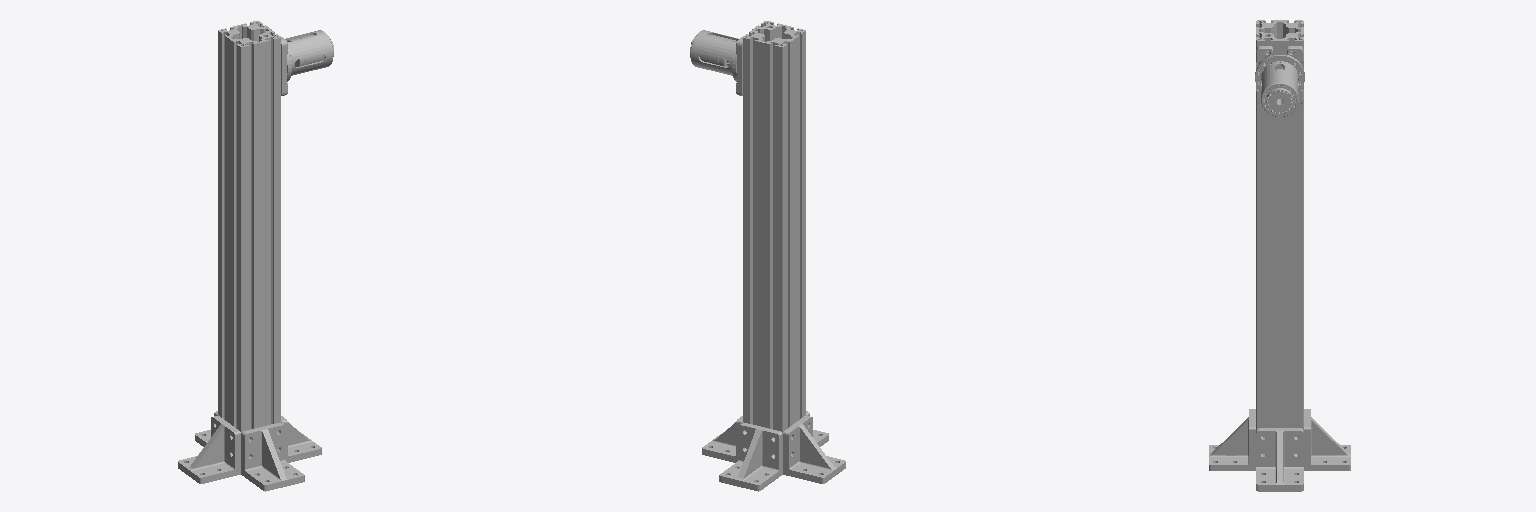
robot.urdf — arm5:
<?xml version="1.0" encoding="utf-8"?>
<!-- This URDF was automatically created by SolidWorks to URDF Exporter! Originally created by [author] ([email redacted]) 
     Commit Version: 1.6.0-4-g7f85cfe  Build Version: 1.6.7995.38578
     For more information, please see http://wiki.ros.org/sw_urdf_exporter -->
<robot
  name="arm5">
  <link
    name="base_link">
    <inertial>
      <origin
        xyz="0.062898 -0.00043392 -0.47448"
        rpy="0 0 0" />
      <mass
        value="6.5373" />
      <inertia
        ixx="0.39748"
        ixy="-7.2205E-05"
        ixz="6.8903E-07"
        iyy="0.39743"
        iyz="-5.6522E-08"
        izz="0.012143" />
    </inertial>
    <visual>
      <origin
        xyz="0 0 0"
        rpy="0 0 0" />
      <geometry>
        <mesh
          filename="package://ti5_description/meshes/arm5/base_link.STL" />
      </geometry>
      <material
        name="">
        <color
          rgba="0.75294 0.75294 0.75294 1" />
      </material>
    </visual>
    <collision>
      <origin
        xyz="0 0 0"
        rpy="0 0 0" />
      <geometry>
        <mesh
          filename="package://ti5_description/meshes/arm5/base_link.STL" />
      </geometry>
    </collision>
  </link>
  <link
    name="Empty_Link1">
    <inertial>
      <origin
        xyz="-0.0012122 0.030854 0.019049"
        rpy="0 0 0" />
      <mass
        value="0.060372" />
      <inertia
        ixx="8.5818E-05"
        ixy="7.8725E-07"
        ixz="1.004E-06"
        iyy="6.5812E-05"
        iyz="-2.5554E-05"
        izz="5.3416E-05" />
    </inertial>
    <visual>
      <origin
        xyz="0 0 0"
        rpy="0 0 0" />
      <geometry>
        <mesh
          filename="package://ti5_description/meshes/arm5/Empty_Link1.STL" />
      </geometry>
      <material
        name="">
        <color
          rgba="0.75294 0.75294 0.75294 1" />
      </material>
    </visual>
    <collision>
      <origin
        xyz="0 0 0"
        rpy="0 0 0" />
      <geometry>
        <mesh
          filename="package://ti5_description/meshes/arm5/Empty_Link1.STL" />
      </geometry>
    </collision>
  </link>
  <joint
    name="j1"
    type="revolute">
    <origin
      xyz="-0.1255 0 0"
      rpy="-1.5708 1.5315 1.5708" />
    <parent
      link="base_link" />
    <child
      link="Empty_Link1" />
    <axis
      xyz="0 0 1" />
    <limit
      lower="-2.618"
      upper="2.618"
      effort="0"
      velocity="0" />
  </joint>
  <link
    name="Empty_Link2">
    <inertial>
      <origin
        xyz="-0.0029293 -3.0228E-05 0.0011432"
        rpy="0 0 0" />
      <mass
        value="0.36978" />
      <inertia
        ixx="0.00035458"
        ixy="7.1526E-08"
        ixz="-1.5567E-05"
        iyy="0.00034741"
        iyz="-2.7045E-07"
        izz="0.00026498" />
    </inertial>
    <visual>
      <origin
        xyz="0 0 0"
        rpy="0 0 0" />
      <geometry>
        <mesh
          filename="package://ti5_description/meshes/arm5/Empty_Link2.STL" />
      </geometry>
      <material
        name="">
        <color
          rgba="0.75294 0.75294 0.75294 1" />
      </material>
    </visual>
    <collision>
      <origin
        xyz="0 0 0"
        rpy="0 0 0" />
      <geometry>
        <mesh
          filename="package://ti5_description/meshes/arm5/Empty_Link2.STL" />
      </geometry>
    </collision>
  </link>
  <joint
    name="j2"
    type="revolute">
    <origin
      xyz="0 0 0.055"
      rpy="1.6101 1.5708 0" />
    <parent
      link="Empty_Link1" />
    <child
      link="Empty_Link2" />
    <axis
      xyz="0 0 1" />
    <limit
      lower="-1.5708"
      upper="1.5708"
      effort="0"
      velocity="0" />
  </joint>
  <link
    name="Empty_Link3">
    <inertial>
      <origin
        xyz="-0.00043966 -0.00095526 0.10658"
        rpy="0 0 0" />
      <mass
        value="0.16255" />
      <inertia
        ixx="0.00016703"
        ixy="5.3544E-07"
        ixz="1.9755E-06"
        iyy="0.00017357"
        iyz="3.5135E-06"
        izz="0.00011735" />
    </inertial>
    <visual>
      <origin
        xyz="0 0 0"
        rpy="0 0 0" />
      <geometry>
        <mesh
          filename="package://ti5_description/meshes/arm5/Empty_Link3.STL" />
      </geometry>
      <material
        name="">
        <color
          rgba="0.75294 0.75294 0.75294 1" />
      </material>
    </visual>
    <collision>
      <origin
        xyz="0 0 0"
        rpy="0 0 0" />
      <geometry>
        <mesh
          filename="package://ti5_description/meshes/arm5/Empty_Link3.STL" />
      </geometry>
    </collision>
  </link>
  <joint
    name="j3"
    type="revolute">
    <origin
      xyz="-0.0551 0 0"
      rpy="-1.5708 -0.03927 1.5708" />
    <parent
      link="Empty_Link2" />
    <child
      link="Empty_Link3" />
    <axis
      xyz="0 0 1" />
    <limit
      lower="-2.618"
      upper="2.618"
      effort="0"
      velocity="0" />
  </joint>
  <link
    name="Empty_Link4">
    <inertial>
      <origin
        xyz="-0.067652 -1.0837E-08 -0.0093648"
        rpy="0 0 0" />
      <mass
        value="0.10047" />
      <inertia
        ixx="6.2345E-05"
        ixy="-9.057E-12"
        ixz="1.0284E-05"
        iyy="7.1688E-05"
        iyz="-6.7461E-10"
        izz="6.7798E-05" />
    </inertial>
    <visual>
      <origin
        xyz="0 0 0"
        rpy="0 0 0" />
      <geometry>
        <mesh
          filename="package://ti5_description/meshes/arm5/Empty_Link4.STL" />
      </geometry>
      <material
        name="">
        <color
          rgba="0.75294 0.75294 0.75294 1" />
      </material>
    </visual>
    <collision>
      <origin
        xyz="0 0 0"
        rpy="0 0 0" />
      <geometry>
        <mesh
          filename="package://ti5_description/meshes/arm5/Empty_Link4.STL" />
      </geometry>
    </collision>
  </link>
  <joint
    name="j4"
    type="revolute">
    <origin
      xyz="0 0 0.215"
      rpy="1.6101 1.5708 0" />
    <parent
      link="Empty_Link3" />
    <child
      link="Empty_Link4" />
    <axis
      xyz="0 0 -1" />
    <limit
      lower="-2.2689"
      upper="2.2689"
      effort="0"
      velocity="0" />
  </joint>
  <link
    name="Empty_Link5">
    <inertial>
      <origin
        xyz="0.024744 -0.00024516 0.020694"
        rpy="0 0 0" />
      <mass
        value="0.038021" />
      <inertia
        ixx="3.2735E-05"
        ixy="3.8535E-08"
        ixz="-1.0284E-05"
        iyy="3.6624E-05"
        iyz="1.0189E-07"
        izz="1.6783E-05" />
    </inertial>
    <visual>
      <origin
        xyz="0 0 0"
        rpy="0 0 0" />
      <geometry>
        <mesh
          filename="package://ti5_description/meshes/arm5/Empty_Link5.STL" />
      </geometry>
      <material
        name="">
        <color
          rgba="1 1 1 1" />
      </material>
    </visual>
    <collision>
      <origin
        xyz="0 0 0"
        rpy="0 0 0" />
      <geometry>
        <mesh
          filename="package://ti5_description/meshes/arm5/Empty_Link5.STL" />
      </geometry>
    </collision>
  </link>
  <joint
    name="j5"
    type="revolute">
    <origin
      xyz="-0.152 0 0"
      rpy="1.5708 0 -1.5708" />
    <parent
      link="Empty_Link4" />
    <child
      link="Empty_Link5" />
    <axis
      xyz="0 0 1" />
    <limit
      lower="-1.5708"
      upper="1.5708"
      effort="0"
      velocity="0" />
  </joint>
</robot>

--- Render facts (derived) ---
The picture shows the robot from 3 angles, left to right: view 1: azimuth 30°, elevation 25°; view 2: azimuth 150°, elevation 25°; view 3: azimuth 270°, elevation 25°; orthographic projection.
Robot: arm5 — 6 links, 5 joints (5 revolute); root link base_link; default pose: all joints at 0.
Visible links, largest first — view 1: base_link; view 2: base_link; view 3: base_link.
Link boxes in pixels (left/top/right/bottom): base_link: left=178, top=21, right=333, bottom=491; base_link: left=690, top=21, right=845, bottom=491; base_link: left=1209, top=20, right=1350, bottom=491.
Bounding box of the posed robot: 0.3415 × 0.3 × 1 m (x, y, z).
Meshes: 6 distinct files referenced, 1 mesh visuals loaded (1 binary STL); not drawn: 5 (reference not matched to a file when rendering).